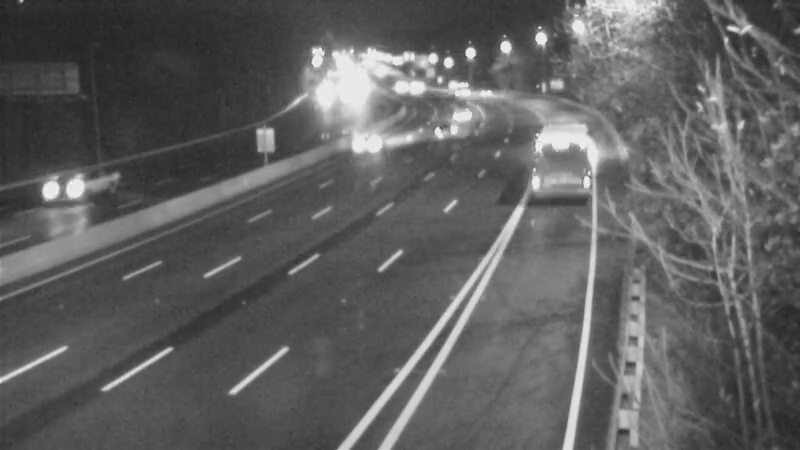vehicle: (21, 151, 101, 231), (432, 58, 482, 108), (376, 61, 426, 111), (394, 63, 444, 113), (456, 66, 506, 116), (438, 86, 488, 136), (427, 104, 477, 154), (527, 114, 577, 164)
